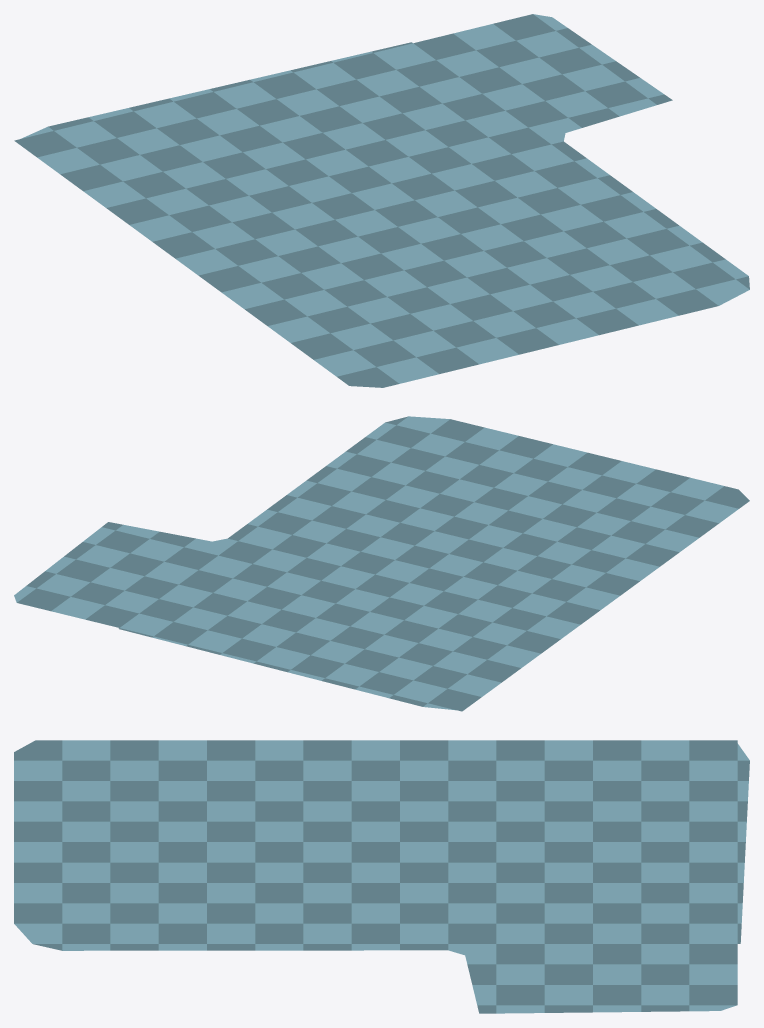
File: room_floor_b.fbx
The picture shows the model from 3 angles, top to bottom: view 1: azimuth 30°, elevation 25°; view 2: azimuth 150°, elevation 25°; view 3: azimuth 270°, elevation 25°; orthographic projection. The views are drawn at different scales.
Parts seen in each view (by area): view 1: Floor; view 2: Floor; view 3: Floor.
Part boxes in pixels (<box>): Floor: <box>14,14,749,387</box>; Floor: <box>14,416,749,711</box>; Floor: <box>14,740,749,1013</box>.
Size of the model in its own units: 1342 by 6.67e-05 by 1526.
